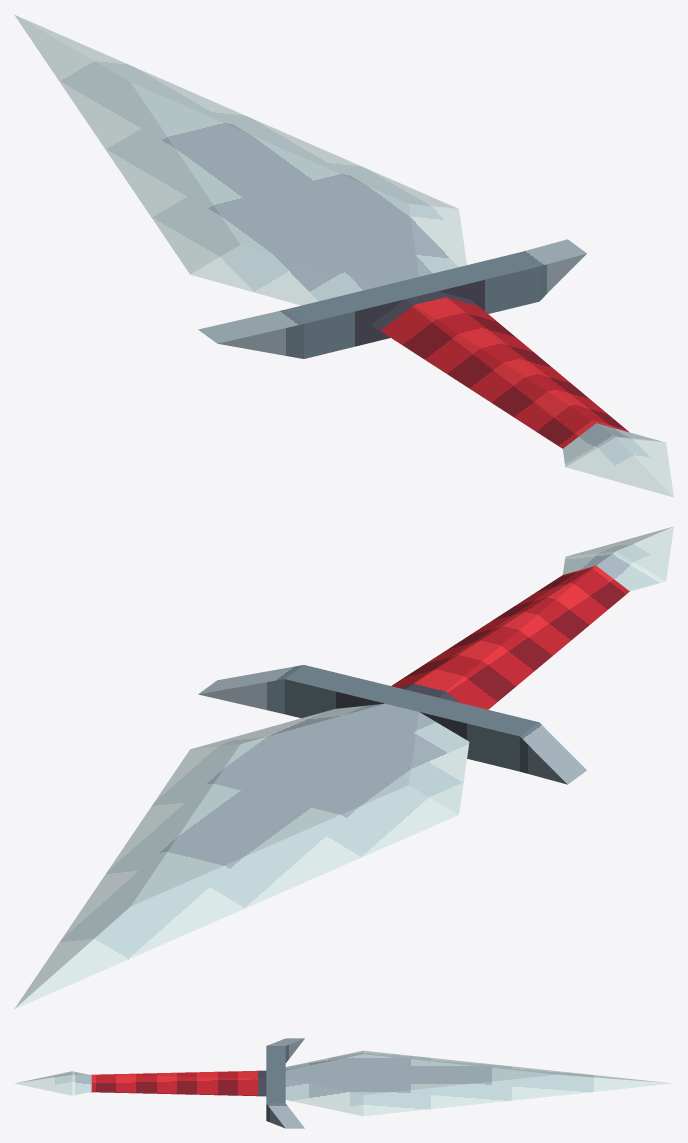
The model's file is dagger.gltf.
3 views of the same model, one above another, from view 1: azimuth 30°, elevation 25°; view 2: azimuth 150°, elevation 25°; view 3: azimuth 270°, elevation 25° (orthographic). The views are drawn at different scales.
Visible parts, largest first — view 1: blade, handle, guard, pommel; view 2: blade, guard, handle, pommel; view 3: blade, handle, guard, pommel.
Part boxes in pixels (x1,y1,x2,y2): blade: (14,14,466,305); handle: (371,291,629,448); guard: (198,239,586,358); pommel: (562,423,673,497); blade: (14,703,469,1009); guard: (198,665,586,784); handle: (391,565,629,709); pommel: (562,526,673,591); blade: (285,1050,673,1116); handle: (91,1070,266,1096); guard: (266,1038,304,1128); pommel: (14,1071,91,1095).
Bounding box in the file's own units: 0.3438 × 0.0312 × 1.06.
1 material, 1 textured.
